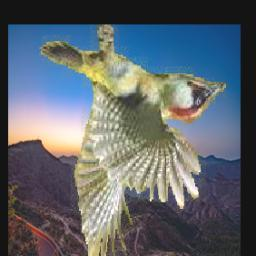Woodpecker: (38, 24, 228, 256)
